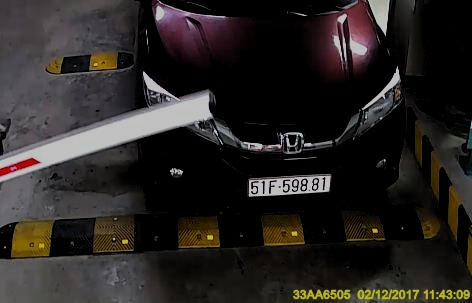plate: (245, 169, 332, 199)
